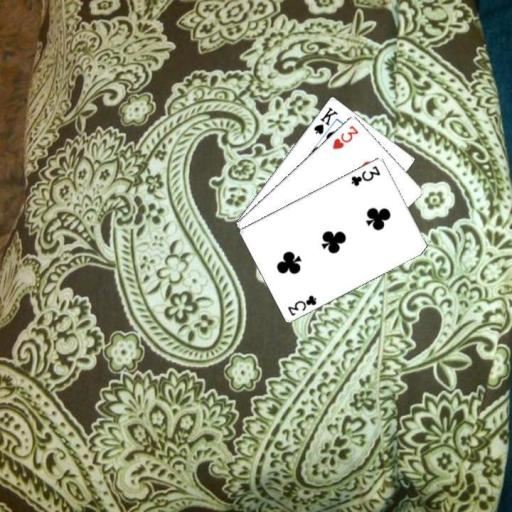3C: (348, 162, 382, 188), (284, 292, 318, 317)
3H: (329, 122, 361, 151)
KS: (310, 104, 339, 136)
